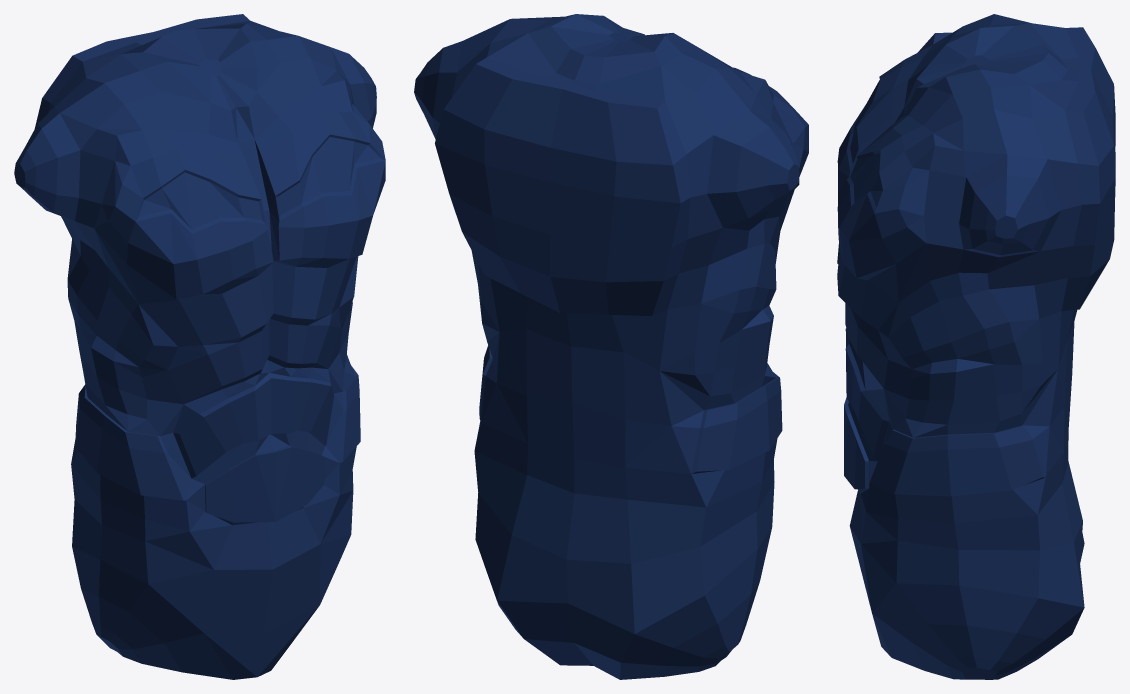
The model's file is body.fbx.
3 renders of one model, left to right at view 1: azimuth 30°, elevation 25°; view 2: azimuth 150°, elevation 25°; view 3: azimuth 270°, elevation 25°, orthographic. The views are drawn at different scales.
Parts seen in each view (by area): view 1: body; view 2: body; view 3: body.
Boxes of the visible parts, box(x1,y1,x2,y2) form: body: box(14, 14, 385, 679); body: box(414, 14, 808, 679); body: box(837, 14, 1115, 679).
Bounding box in the file's own units: 0.4631 × 0.7478 × 0.3136.
